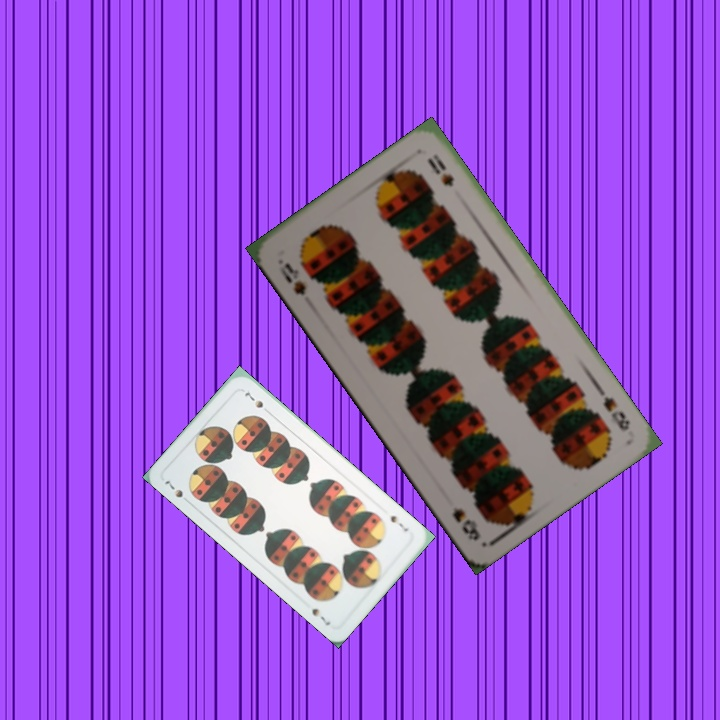S7: (160, 476, 193, 506), (386, 511, 411, 534)
S8: (599, 392, 633, 434), (275, 258, 309, 298)
